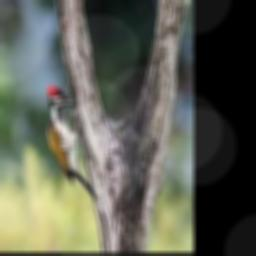Woodpecker: (48, 87, 97, 199)
